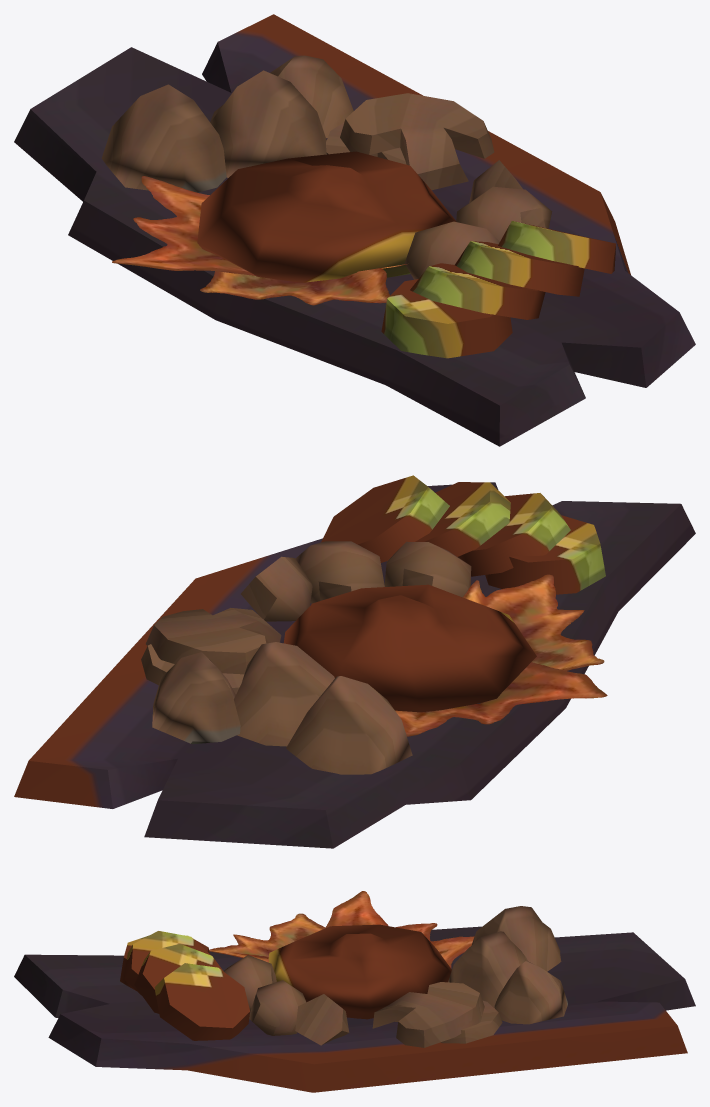
3 views of the same model, one above another, from view 1: azimuth 30°, elevation 25°; view 2: azimuth 150°, elevation 25°; view 3: azimuth 270°, elevation 25° (orthographic). The views are drawn at different scales.
Size of the model in its own units: 1.11 by 0.2494 by 1.81.
Materials: 2 (2 with a texture image).
